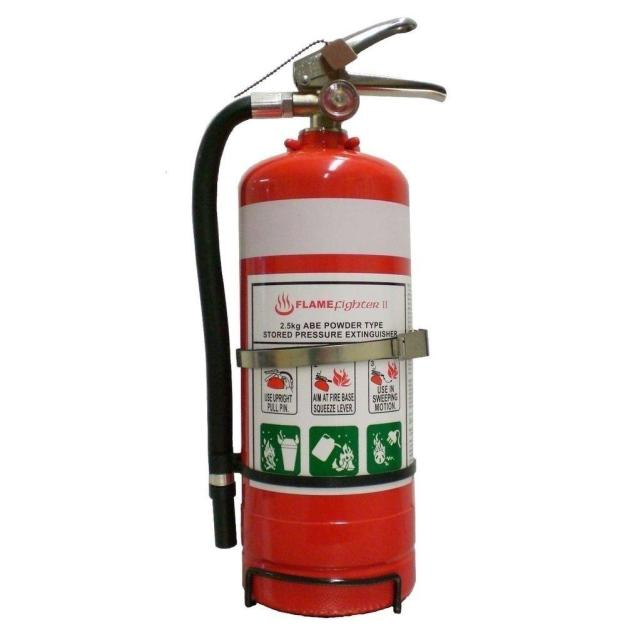fire_extinguisher: (187, 12, 450, 621)
